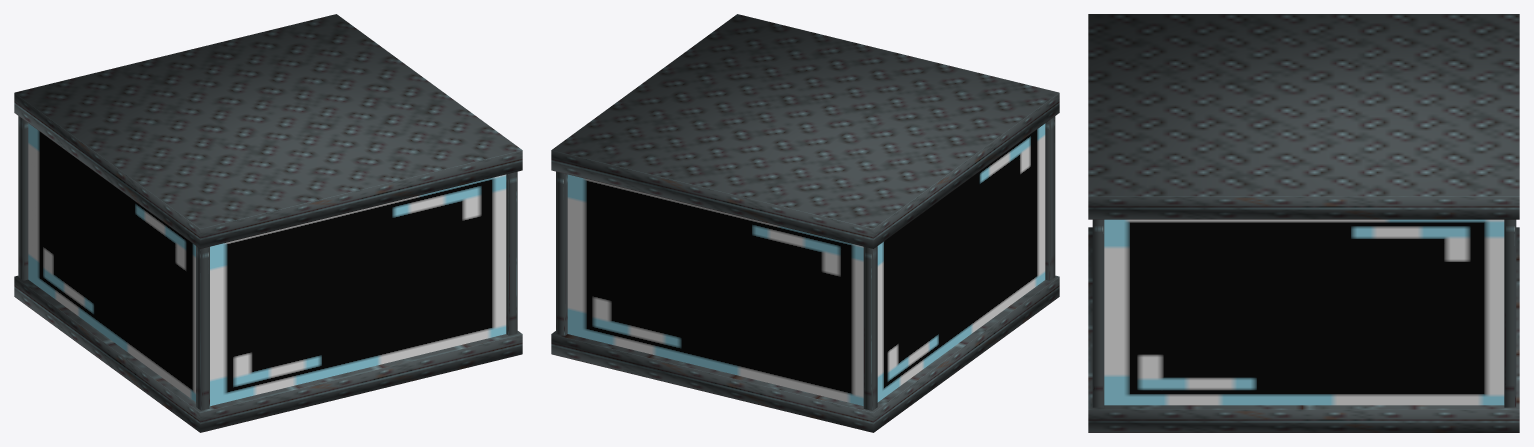
File: mainFrame.fbx
3 renders of one model, left to right at view 1: azimuth 30°, elevation 25°; view 2: azimuth 150°, elevation 25°; view 3: azimuth 270°, elevation 25°, orthographic. The views are drawn at different scales.
Visible parts, largest first — view 1: MainframeSectionCabin; view 2: MainframeSectionCabin; view 3: MainframeSectionCabin.
Boxes of the visible parts, box(x1,y1,x2,y2) form: MainframeSectionCabin: box(14, 14, 522, 432); MainframeSectionCabin: box(551, 14, 1059, 432); MainframeSectionCabin: box(1088, 14, 1519, 432).
Size of the model in its own units: 3036 by 1838 by 3036.
